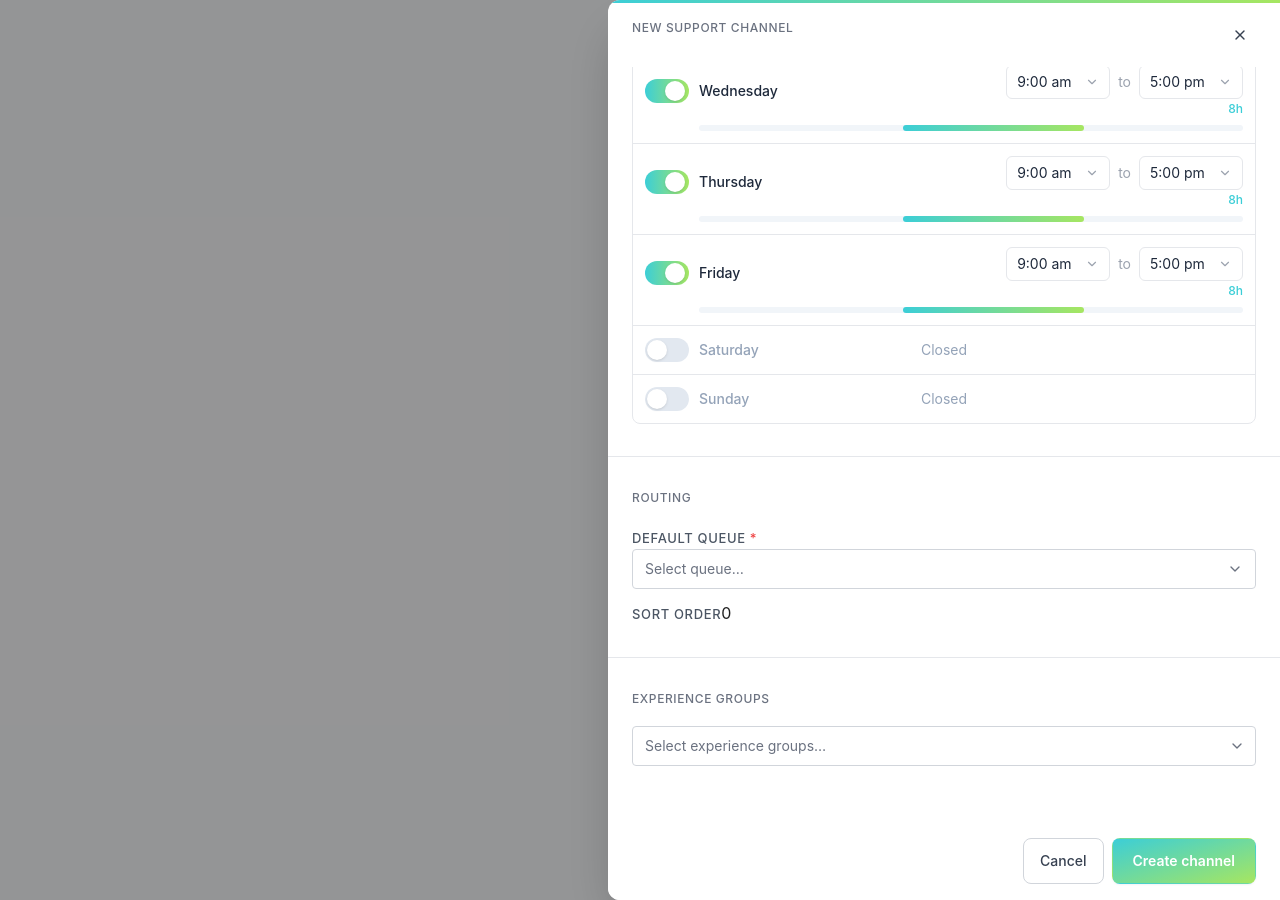
Test: SupportChannelFormDrawer › shows experience groups multi-select when groups exist
(page scrolled)
Expected: the text "Select experience groups…" is shown, x1=641 y1=736 x2=830 y2=756
Click the dropdown "Select experience groups…".
click(944, 746)  # box x1=632 y1=726 x2=1256 y2=766
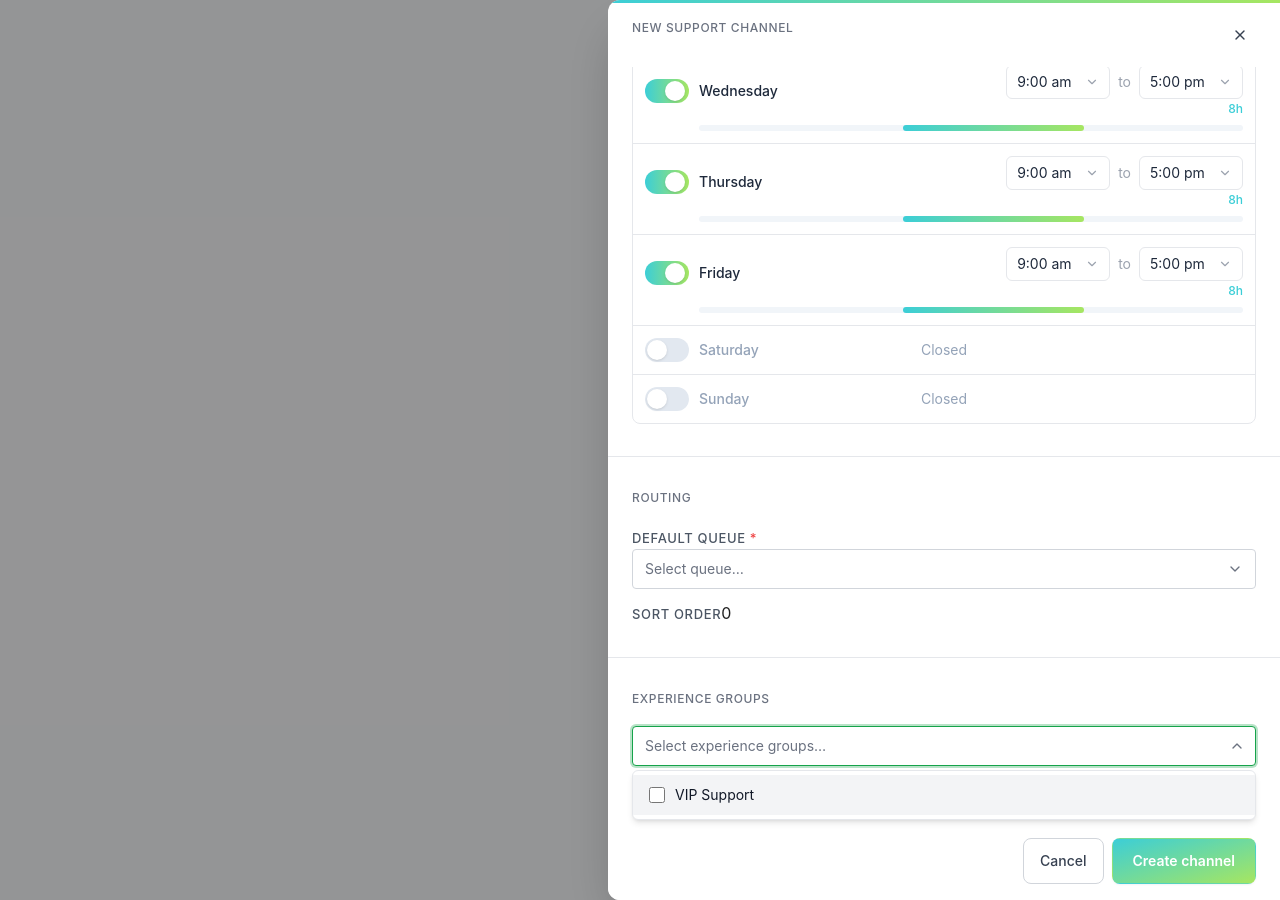
Result: the option "VIP Support" is shown at x1=633 y1=775 x2=1255 y2=815
